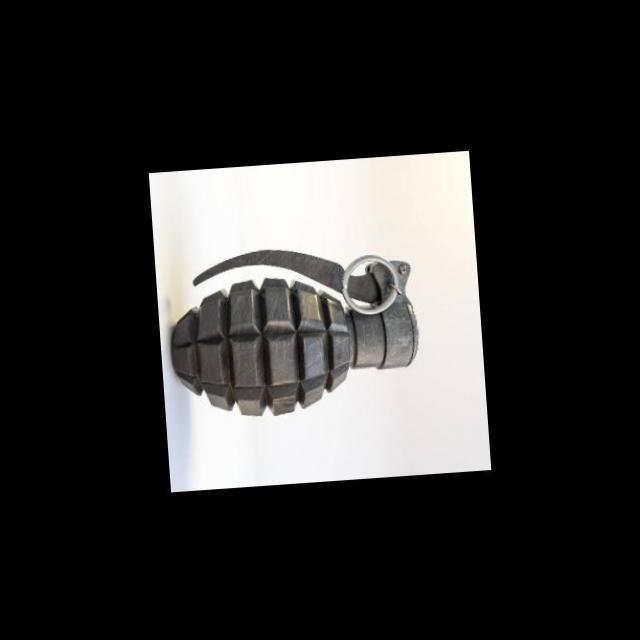grenade: (161, 230, 432, 427)
